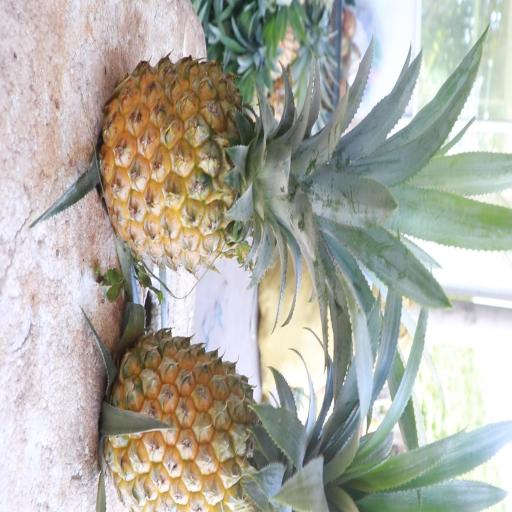Pineapple - v8 v1: (96, 50, 335, 284), (99, 323, 337, 512)
